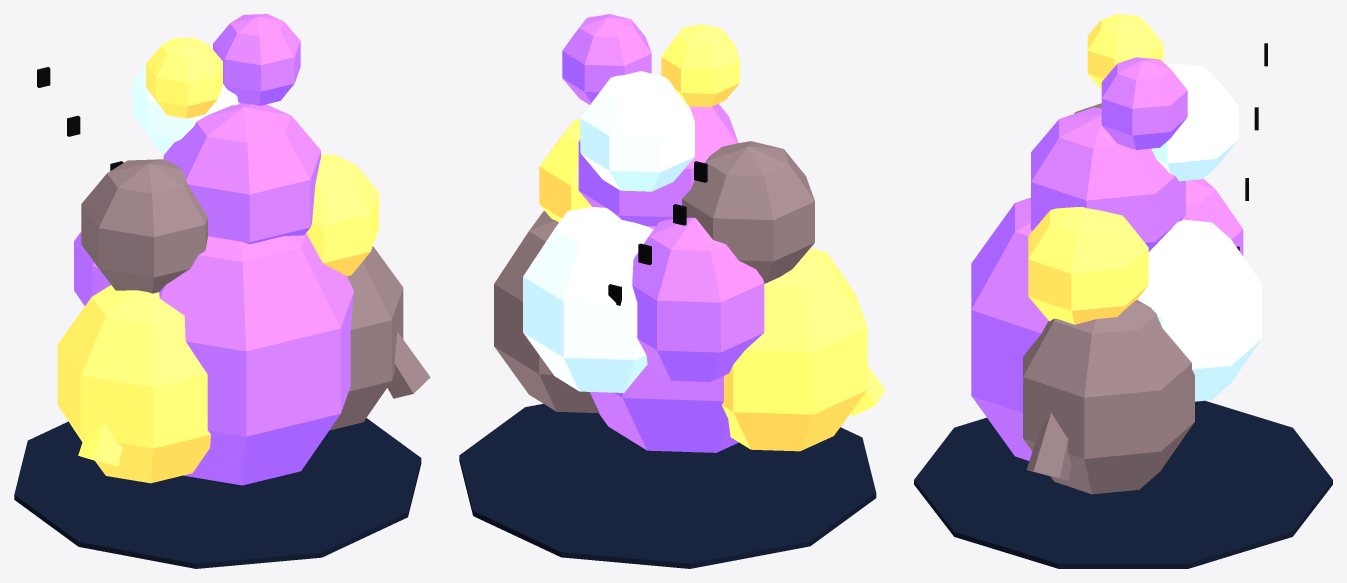
Rendered from boss_b14_lump.glb.
3 views of the same model, side by side, from view 1: azimuth 30°, elevation 25°; view 2: azimuth 150°, elevation 25°; view 3: azimuth 270°, elevation 25° (orthographic). The views are drawn at different scales.
Visible parts, largest first — view 1: boss_b14_lump; view 2: boss_b14_lump; view 3: boss_b14_lump.
Boxes of the visible parts, x1,y1,x2,y2 form: boss_b14_lump: [14, 14, 430, 568]; boss_b14_lump: [459, 14, 885, 568]; boss_b14_lump: [914, 14, 1332, 568].
Size of the model in its own units: 2.09 by 2.62 by 2.2.
